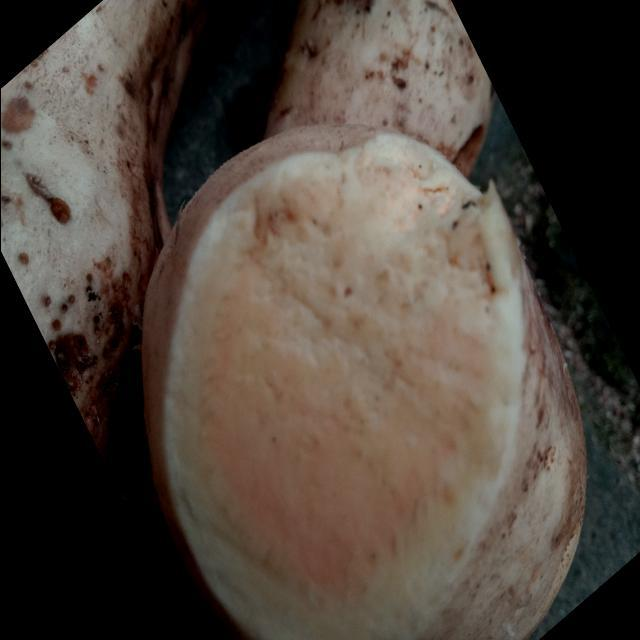Healthy Sweet Potato: (165, 133, 525, 638)
